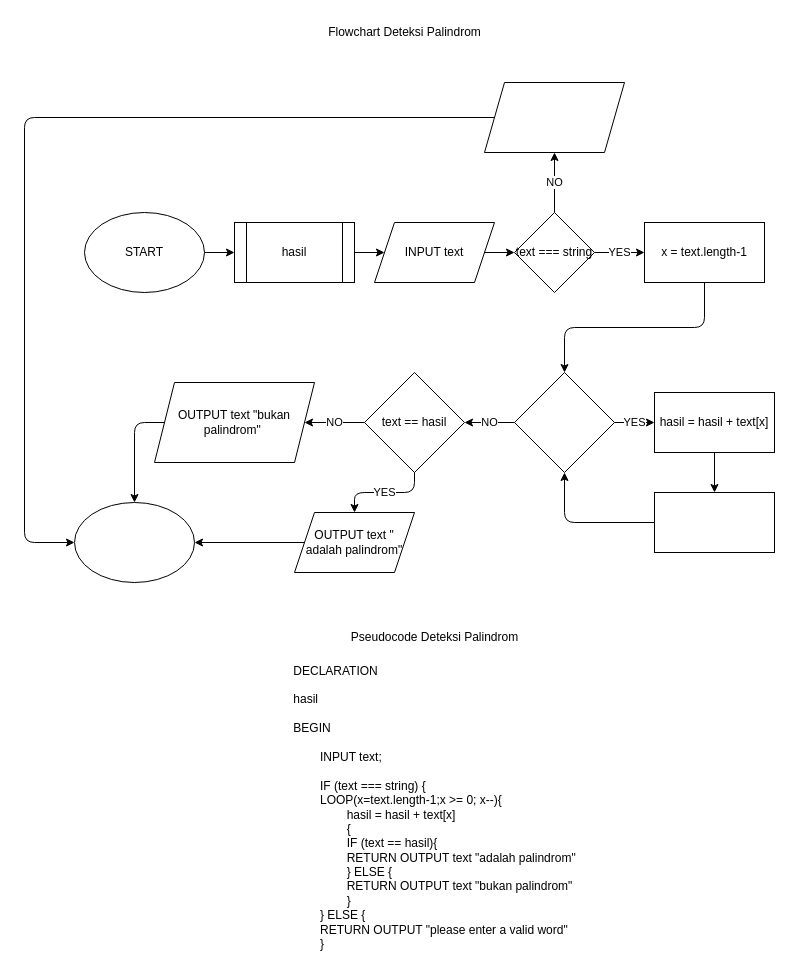
Image size: 792x974. Some labels were removed from this diagram. The shapes that lost their labels are listed below. From the top down, each one's box as (x1, y1, x2, y2) in pixels, then its label:
(484, 82, 624, 152): output "please enter a valid word"
(514, 372, 614, 472): x >= 0
(74, 502, 194, 582): END
(654, 492, 774, 552): x = x-1
